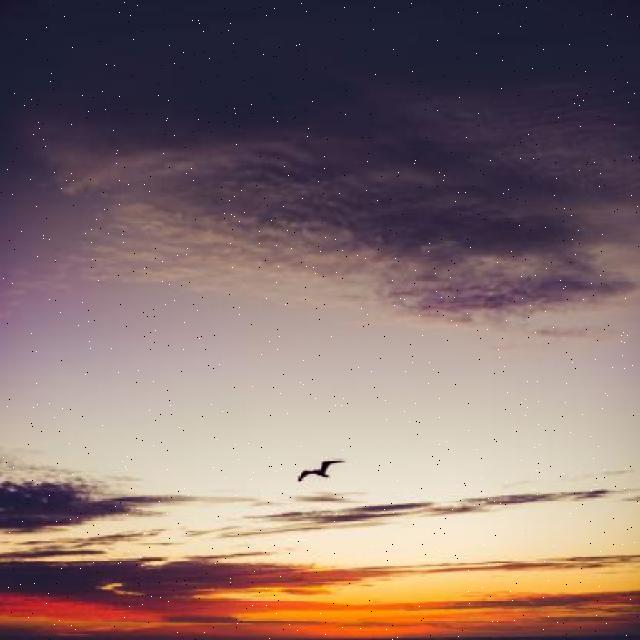bird: (298, 460, 344, 482)
